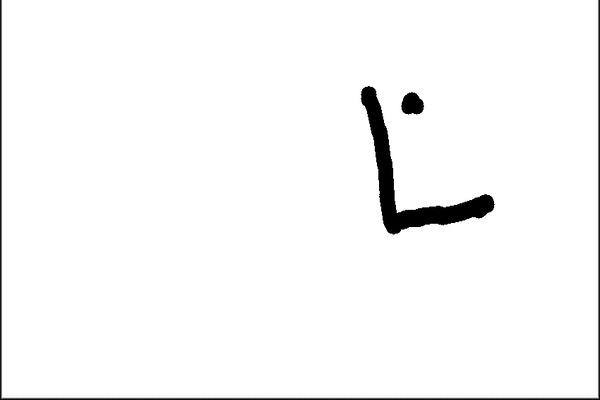L: (353, 76, 503, 241)
